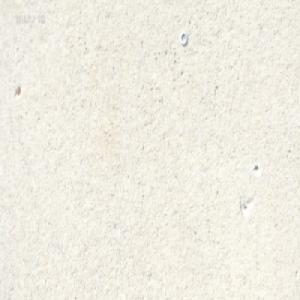Washer: (180, 30, 188, 45)
